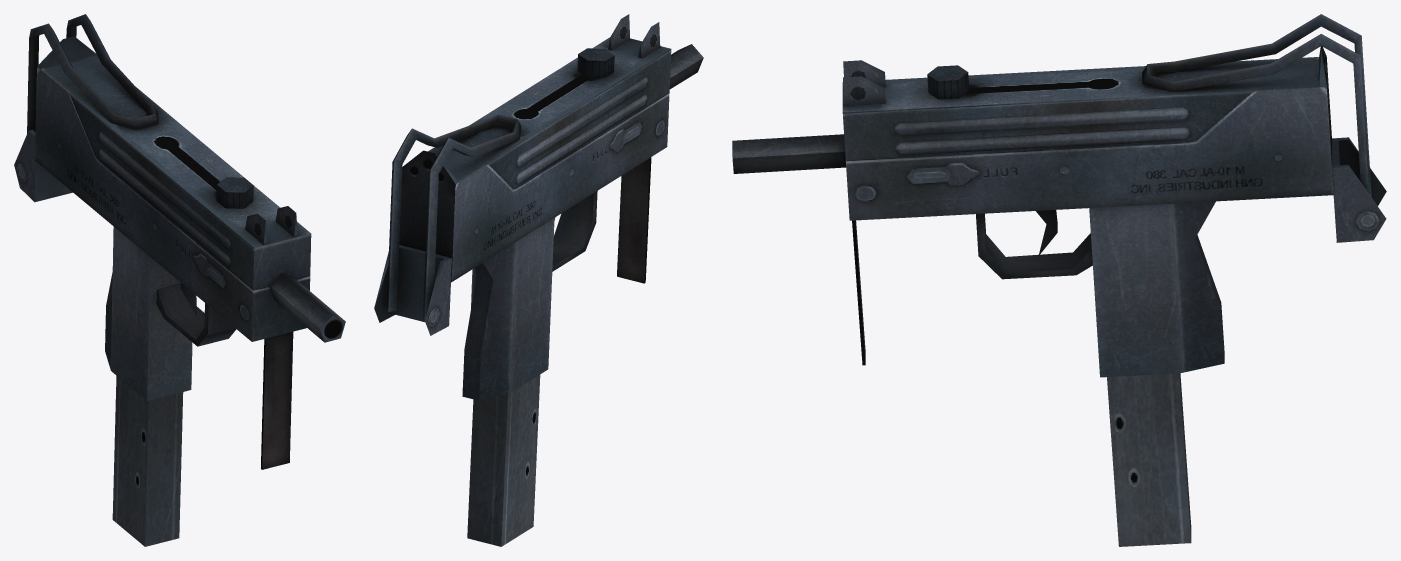
Rendered from cs-weapon-mac10-counter-strike-source.glb.
The picture shows the model from 3 angles, left to right: view 1: azimuth 30°, elevation 25°; view 2: azimuth 150°, elevation 25°; view 3: azimuth 270°, elevation 25°; orthographic projection. The views are drawn at different scales.
Bounding box in the file's own units: 1.68 × 12.62 × 14.62.
1 material, 1 textured.
